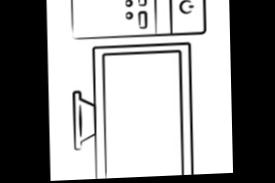monitor: (71, 43, 193, 179)
pc: (71, 0, 205, 41)
